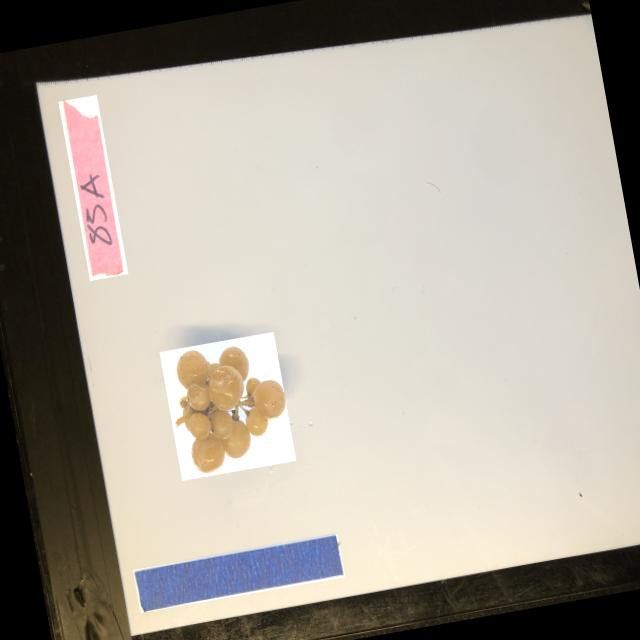grape_cluster: (159, 330, 296, 480)
index: (58, 93, 128, 280)
measure_label: (133, 532, 344, 611)
